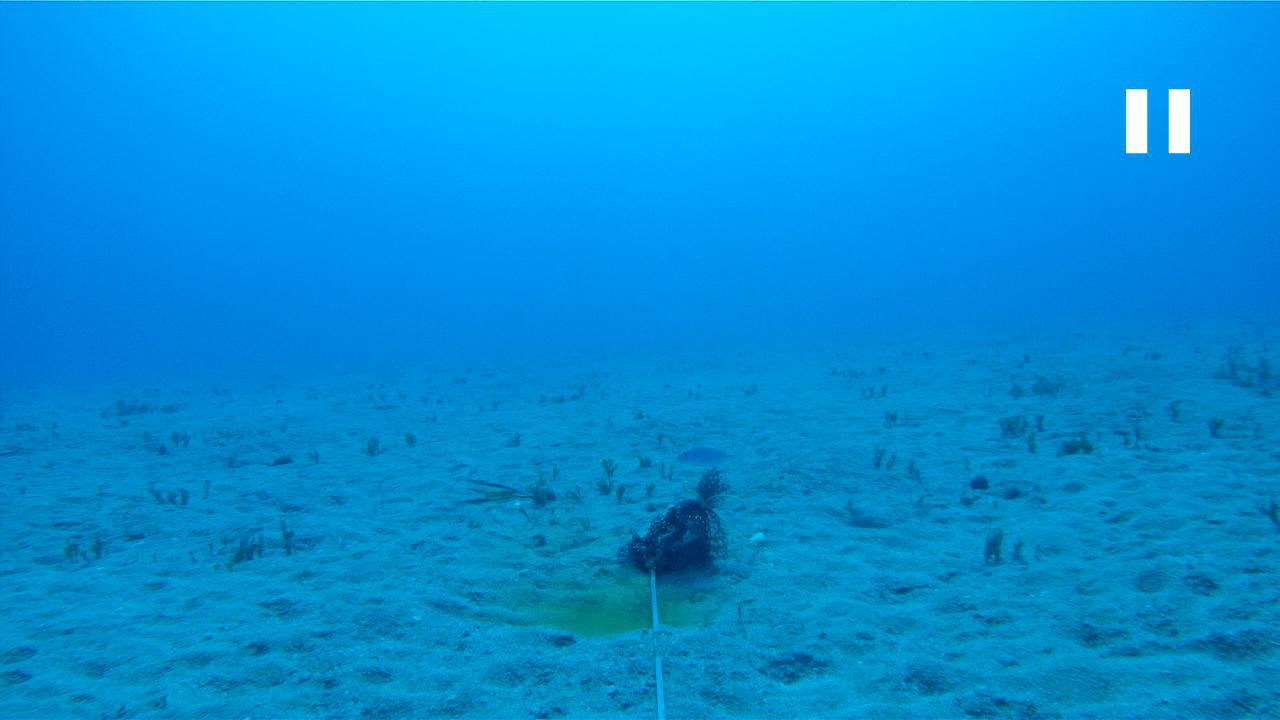bothus: (841, 494, 908, 525)
